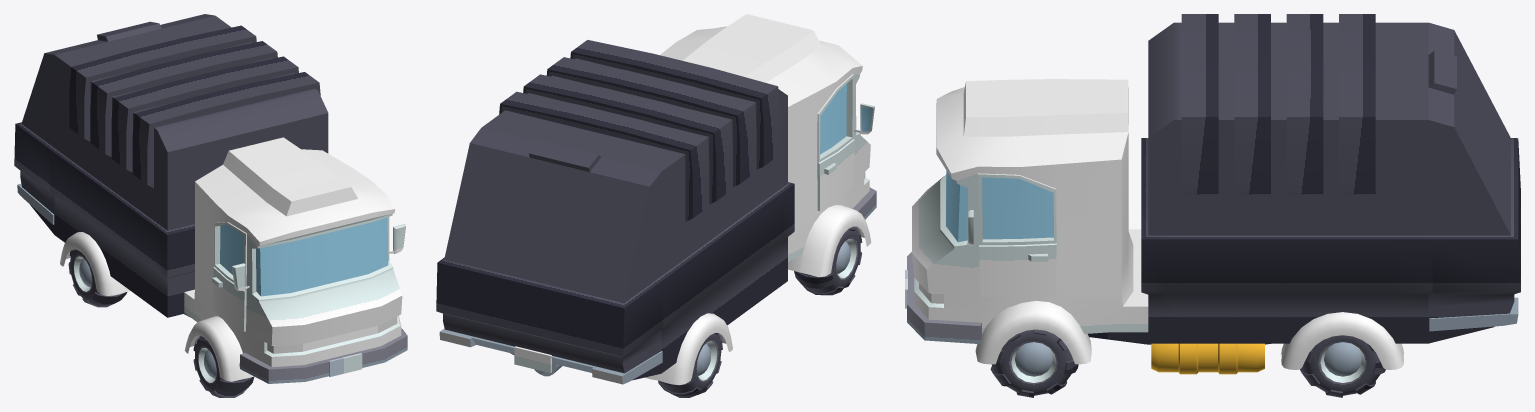
The model's file is camion_bsrBase.fbx.
3 renders of one model, left to right at view 1: azimuth 30°, elevation 25°; view 2: azimuth 150°, elevation 25°; view 3: azimuth 270°, elevation 25°, orthographic. The views are drawn at different scales.
Parts seen in each view (by area): view 1: camion_bsr.013, camion_bsr.018, camion_bsr.015, camion_bsr.014; view 2: camion_bsr.013, camion_bsr.018, camion_bsr.015, camion_bsr.014; view 3: camion_bsr.013, camion_bsr.018, camion_bsr.016, camion_bsr.017, camion_bsrBase.
Boxes of the visible parts, x1,y1,x2,y2 form: camion_bsr.013: (14,14,328,317); camion_bsr.018: (184,137,407,383); camion_bsr.015: (193,335,254,397); camion_bsr.014: (68,249,127,307); camion_bsr.013: (436,40,794,385); camion_bsr.018: (660,14,876,276); camion_bsr.015: (794,226,862,295); camion_bsr.014: (658,333,722,397); camion_bsr.013: (1141,14,1520,374); camion_bsr.018: (905,79,1148,364); camion_bsr.016: (990,329,1078,397); camion_bsr.017: (1300,335,1385,397); camion_bsrBase: (1088,332,1270,344).
Size of the model in its own units: 5.2 by 6.51 by 12.53.
